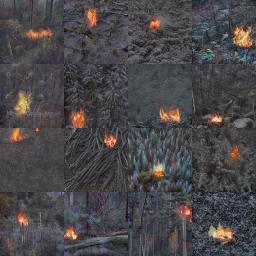Small fire: (200, 220, 248, 247), (0, 123, 50, 148), (139, 7, 174, 42), (145, 101, 189, 127), (228, 15, 256, 54), (6, 87, 39, 120), (10, 199, 36, 237), (174, 196, 203, 227), (203, 107, 234, 133), (68, 101, 91, 132), (21, 25, 60, 43), (59, 221, 83, 247), (225, 140, 246, 167), (82, 1, 99, 32), (152, 159, 170, 186), (101, 132, 121, 151)
